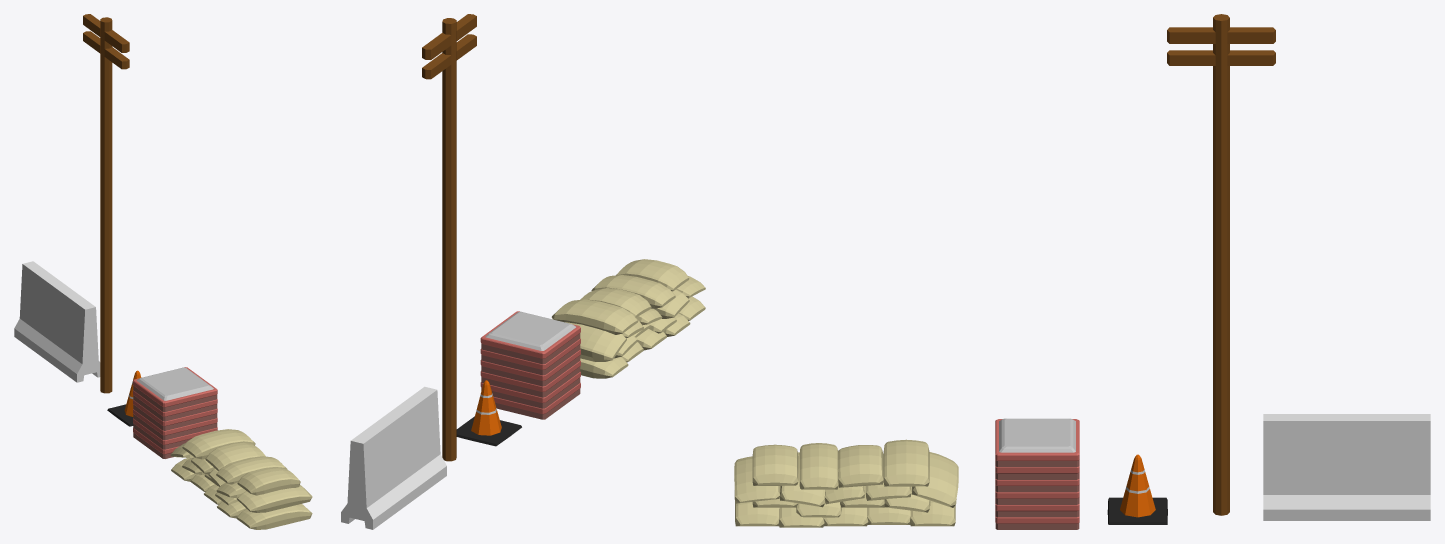
The model's file is Props 001.fbx.
3 views of the same model, side by side, from view 1: azimuth 30°, elevation 25°; view 2: azimuth 150°, elevation 25°; view 3: azimuth 270°, elevation 25° (orthographic). The views are drawn at different scales.
Visible parts, largest first — view 1: Cube.001, Cube, CinderBlock, Cylinder, Cylinder.001; view 2: Cube.001, Cube, CinderBlock, Cylinder, Cylinder.001; view 3: Cube, Cube.001, Cylinder, CinderBlock, Cylinder.001.
Part boxes in pixels (<box>): Cube.001: <box>170,429,312,529</box>; Cube: <box>14,261,100,382</box>; CinderBlock: <box>133,367,217,458</box>; Cylinder: <box>83,14,129,393</box>; Cylinder.001: <box>107,370,141,426</box>; Cube.001: <box>551,259,705,378</box>; Cube: <box>341,386,446,529</box>; CinderBlock: <box>480,311,580,419</box>; Cylinder: <box>422,14,476,461</box>; Cylinder.001: <box>456,380,521,446</box>; Cube: <box>1263,414,1430,520</box>; Cube.001: <box>734,439,958,527</box>; Cylinder: <box>1167,14,1275,515</box>; CinderBlock: <box>995,418,1079,529</box>; Cylinder.001: <box>1107,454,1167,524</box>.
Bounding box in the file's own units: 251 × 1306 × 1665.
